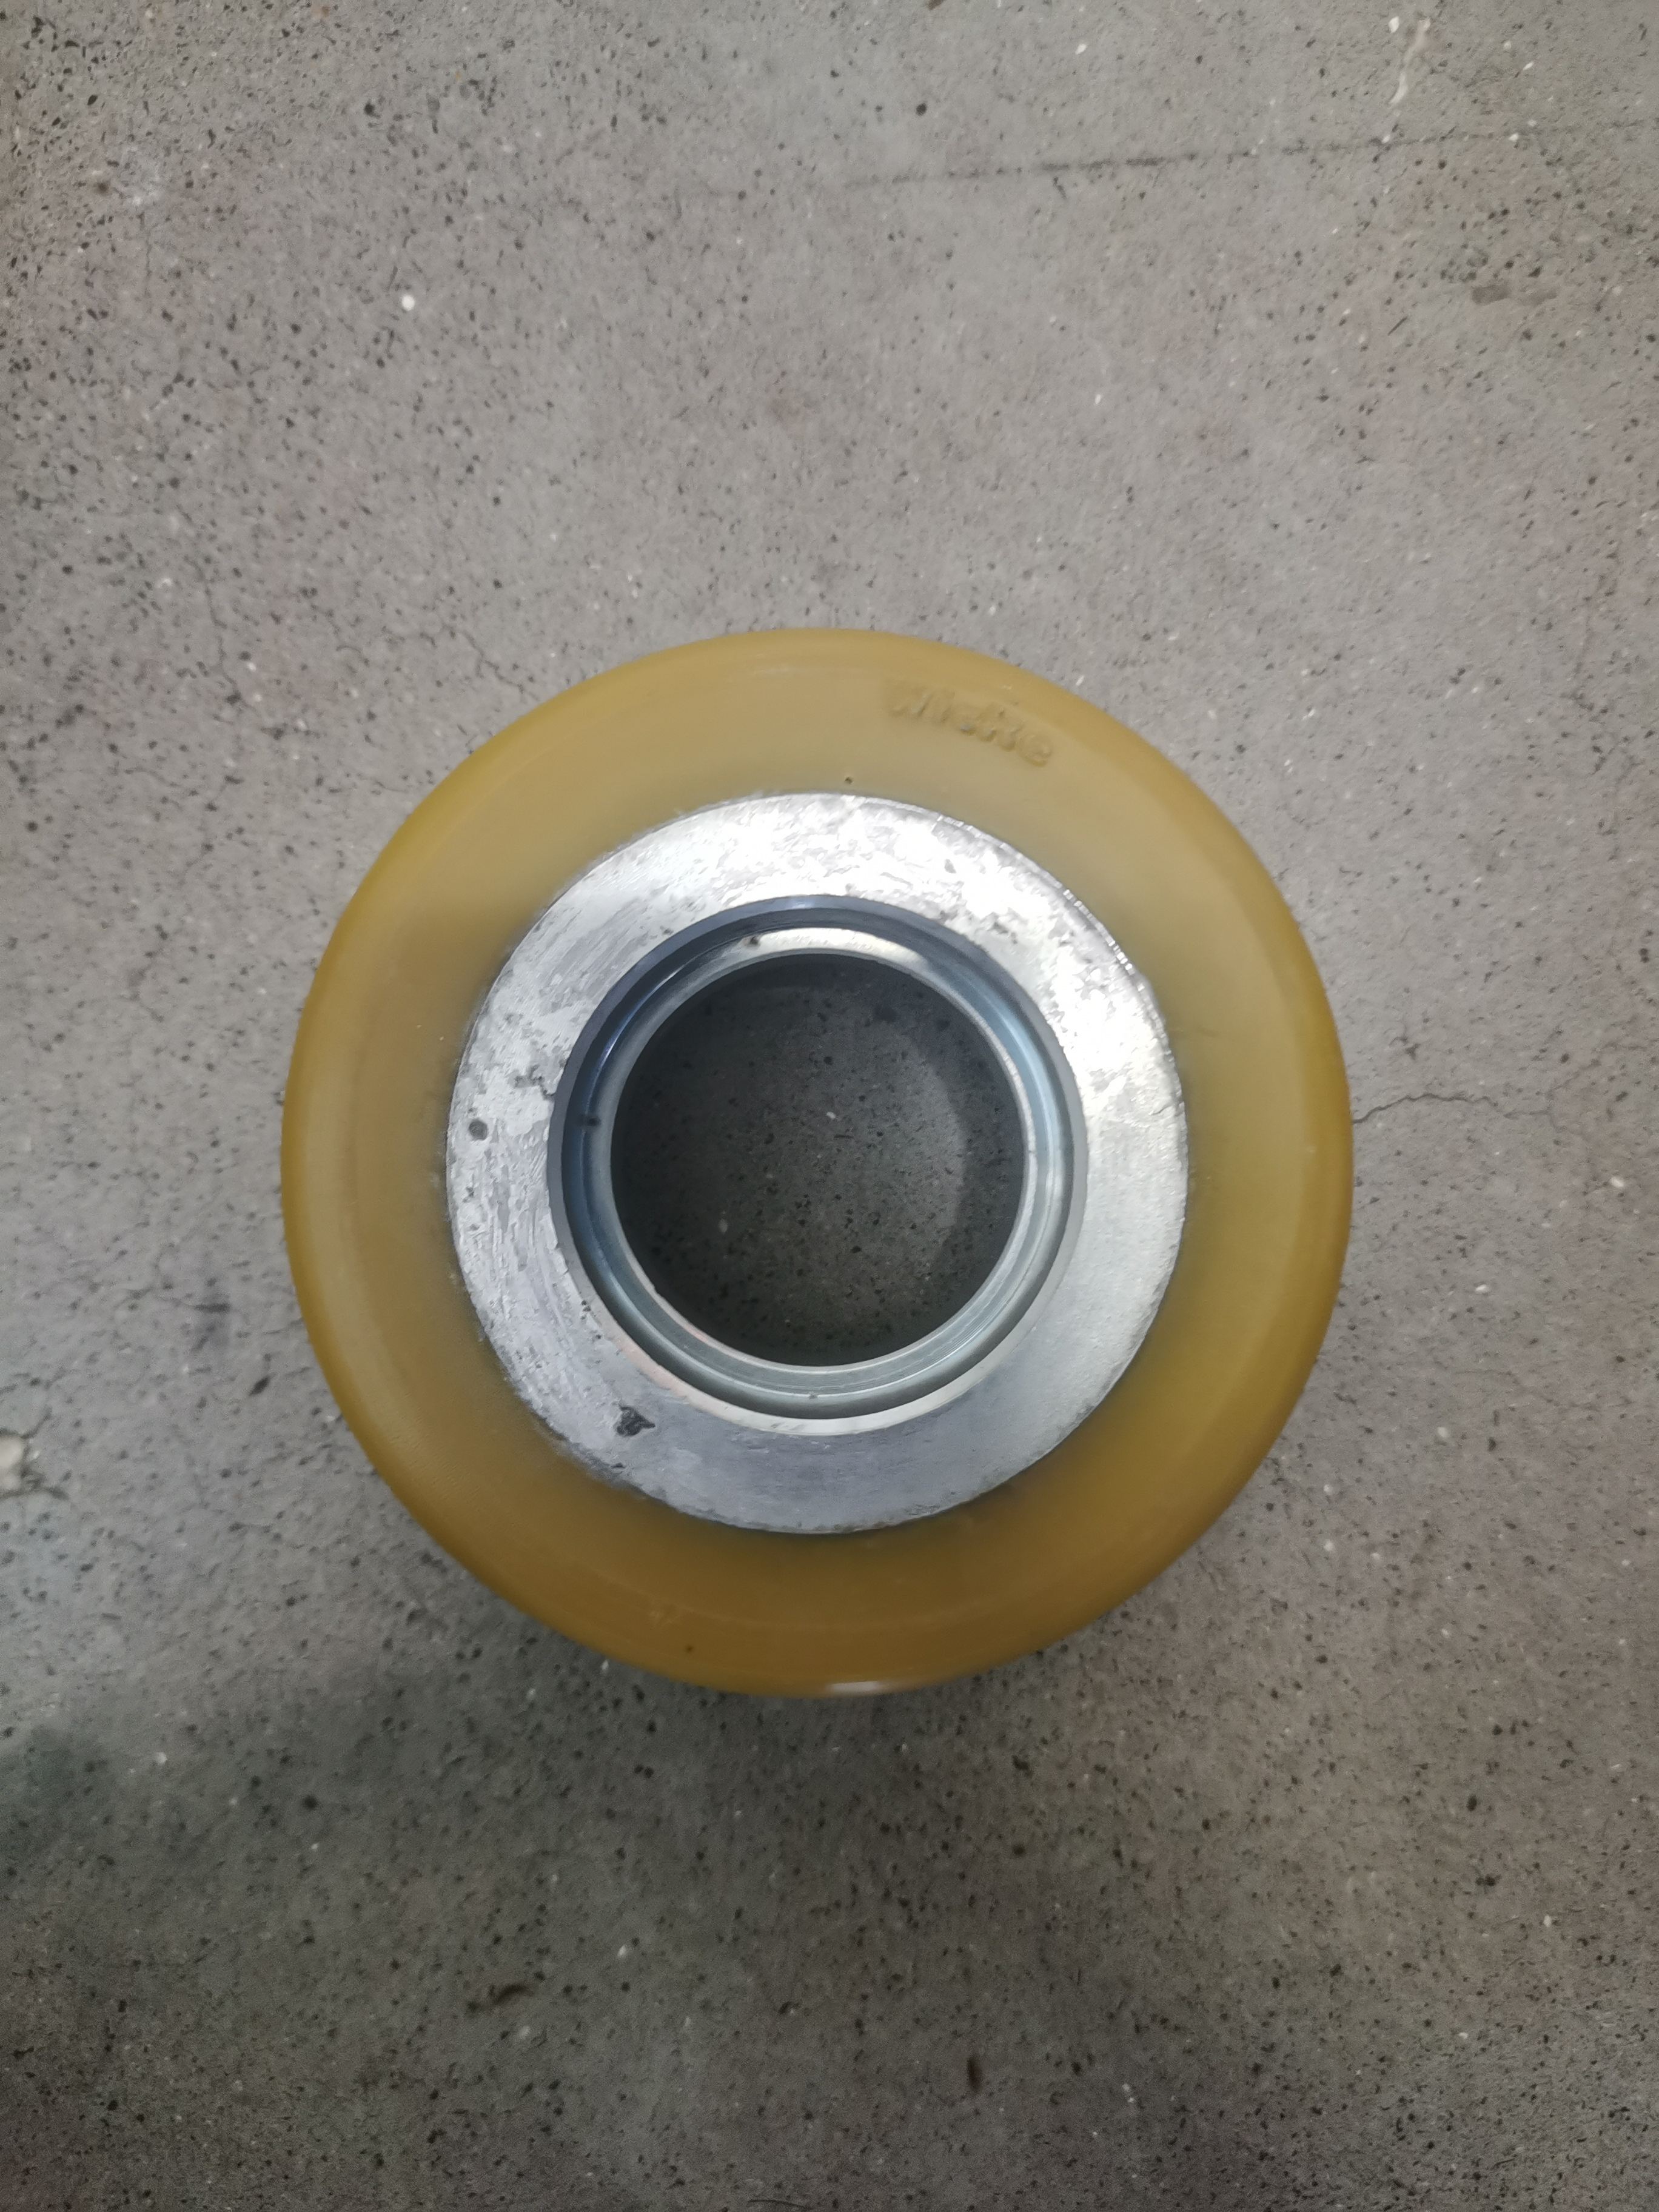good_wheel: (209, 583, 1377, 1750)
